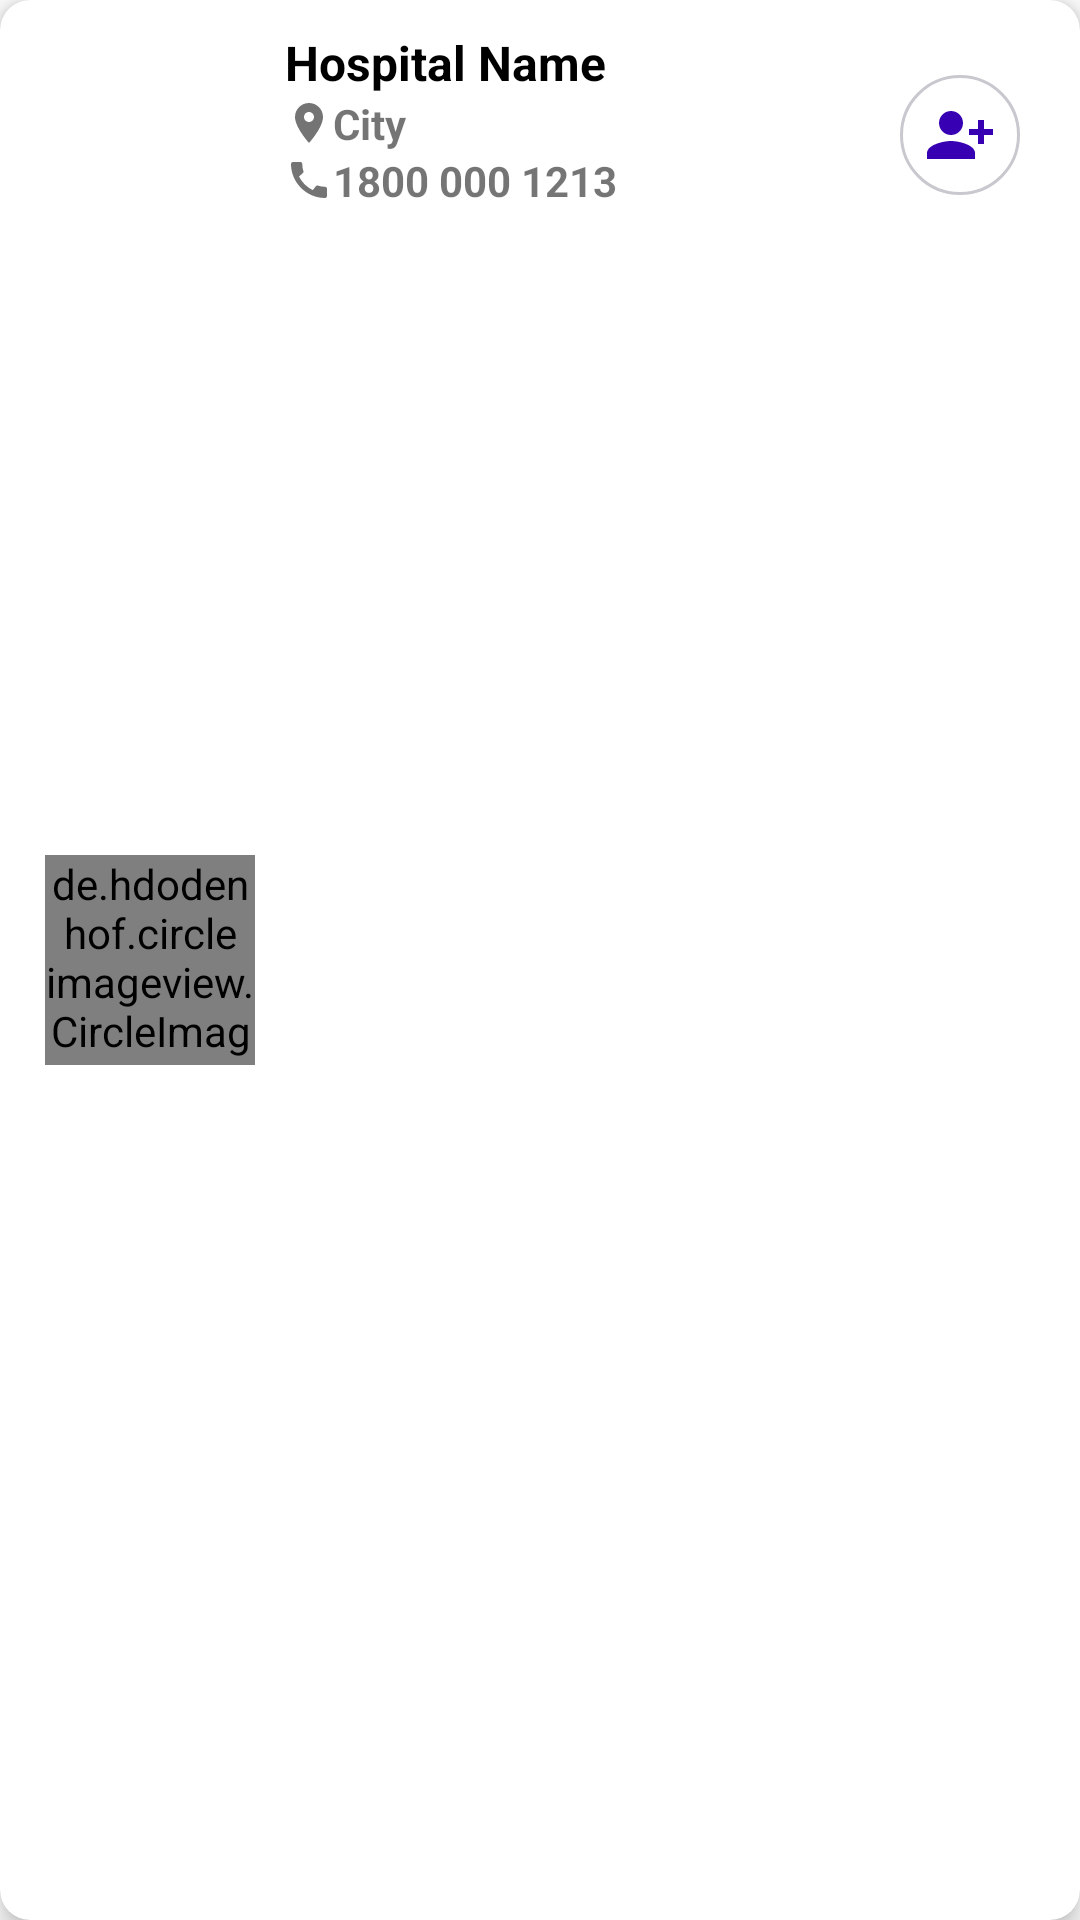

Point at icon controls on the screen. Image size 1080×1920, points as [x,y].
person add: [960,135]
